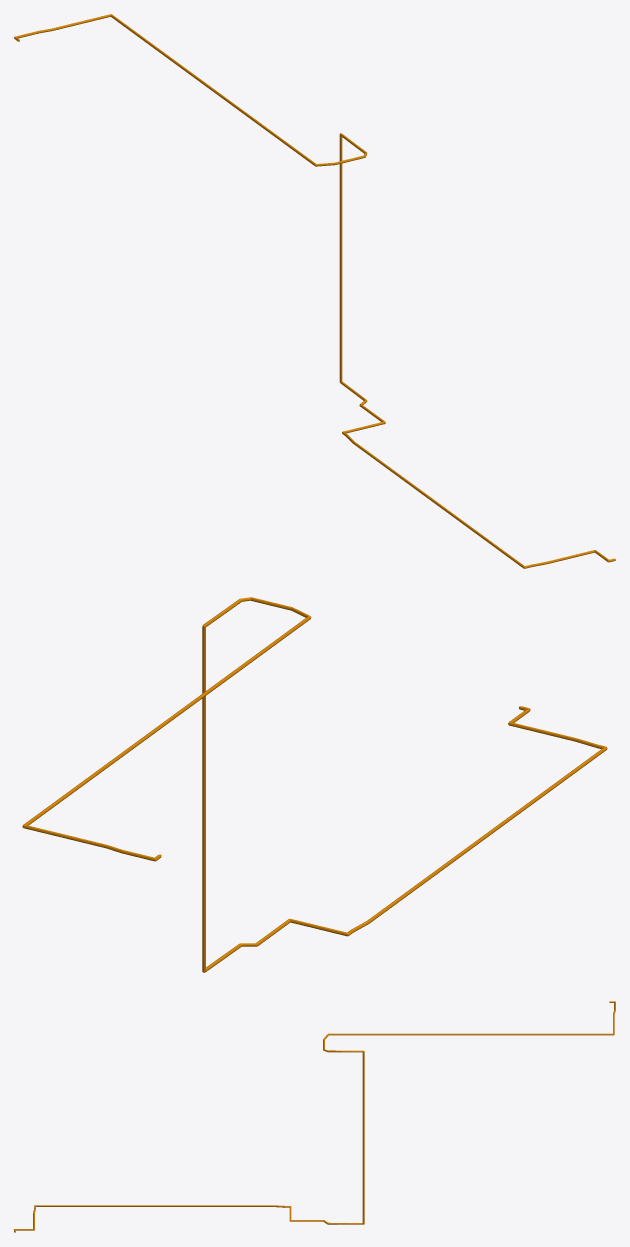
3 views of the same model, one above another, from view 1: azimuth 30°, elevation 25°; view 2: azimuth 150°, elevation 25°; view 3: azimuth 270°, elevation 25° (orthographic). The views are drawn at different scales.
Size of the model in its own units: 1444 by 2020 by 6331.
